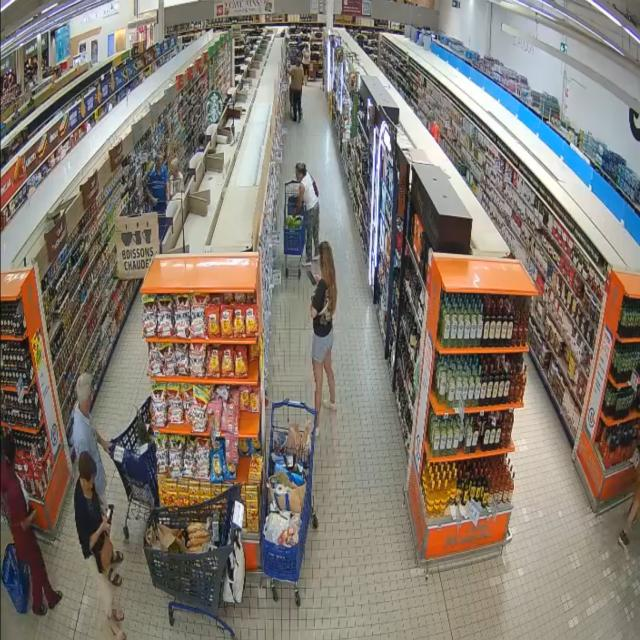article: (105, 504, 114, 524)
bags: (2, 544, 30, 613), (223, 532, 245, 604), (100, 534, 113, 572), (312, 177, 319, 197)
hands: (21, 512, 35, 530), (100, 515, 110, 535), (101, 439, 111, 453), (315, 275, 320, 286), (151, 197, 157, 205)
person: (0, 438, 62, 615), (75, 452, 125, 639), (73, 373, 110, 511), (311, 241, 337, 414), (296, 163, 319, 266), (147, 154, 169, 242), (290, 60, 304, 121), (189, 133, 206, 174), (170, 158, 183, 198)
